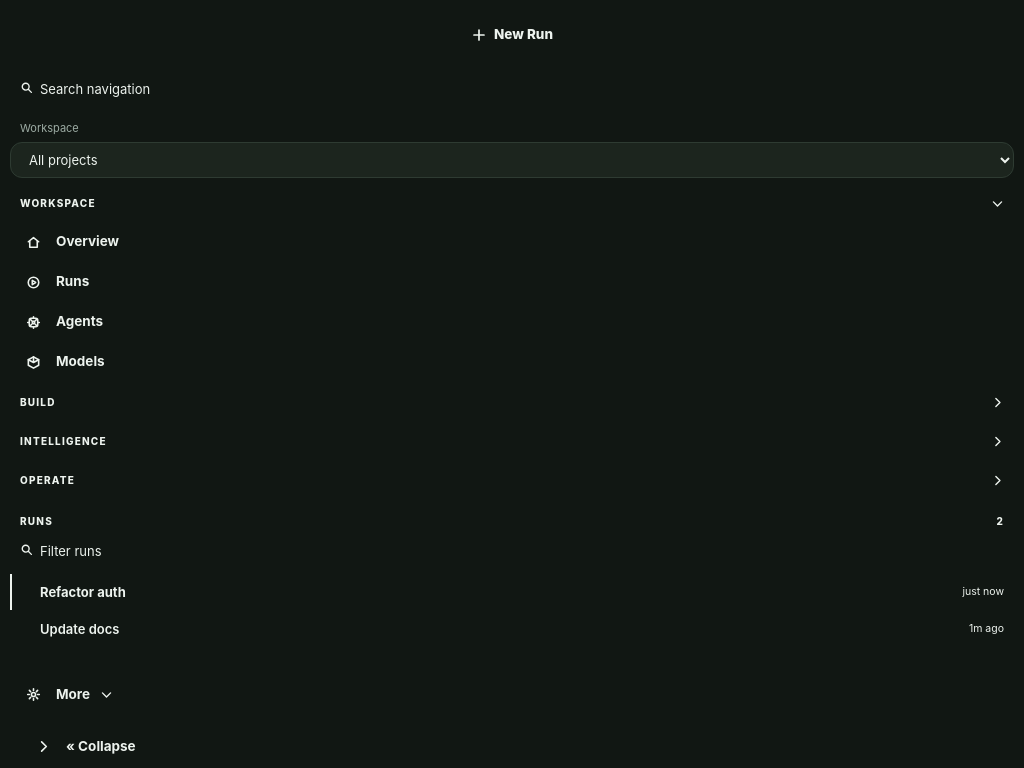
Test: console shell › filters runs by search without losing the list
The width and height of the screenshot is (1024, 768).
Type "docs" into the field labelled "Filter runs" at (512, 552), box [10,534,1014,570]
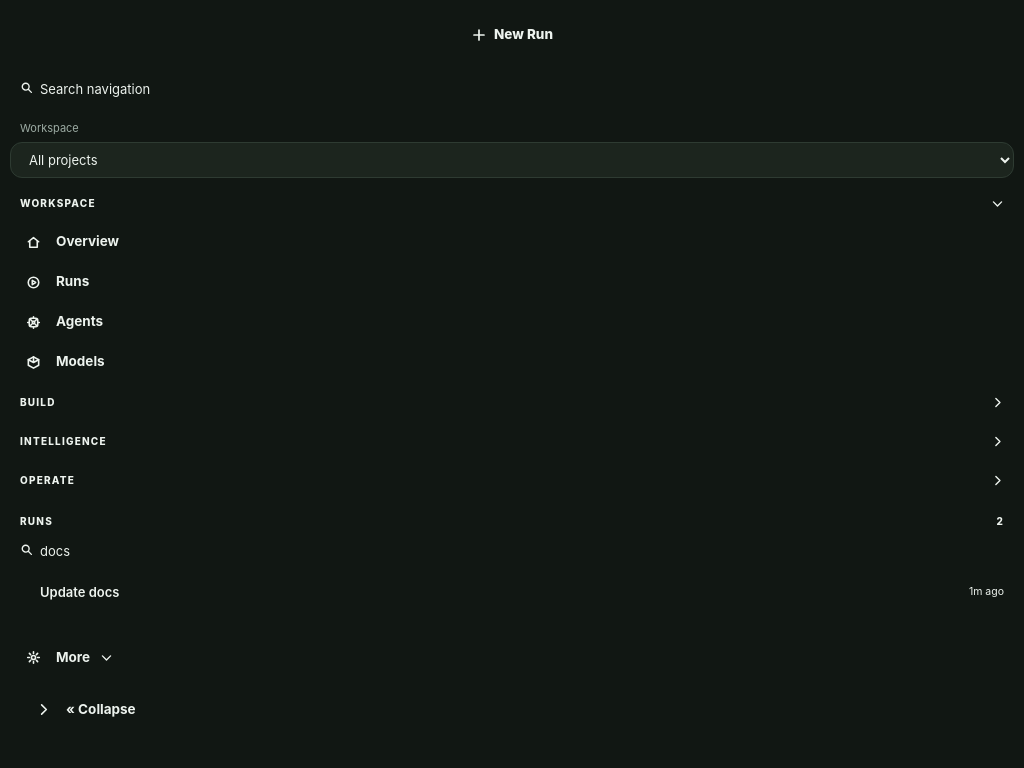
Expected: the option "Update docs 1m ago" is shown, [40,584,1004,600]
Now the option "Refactor auth" is gone
